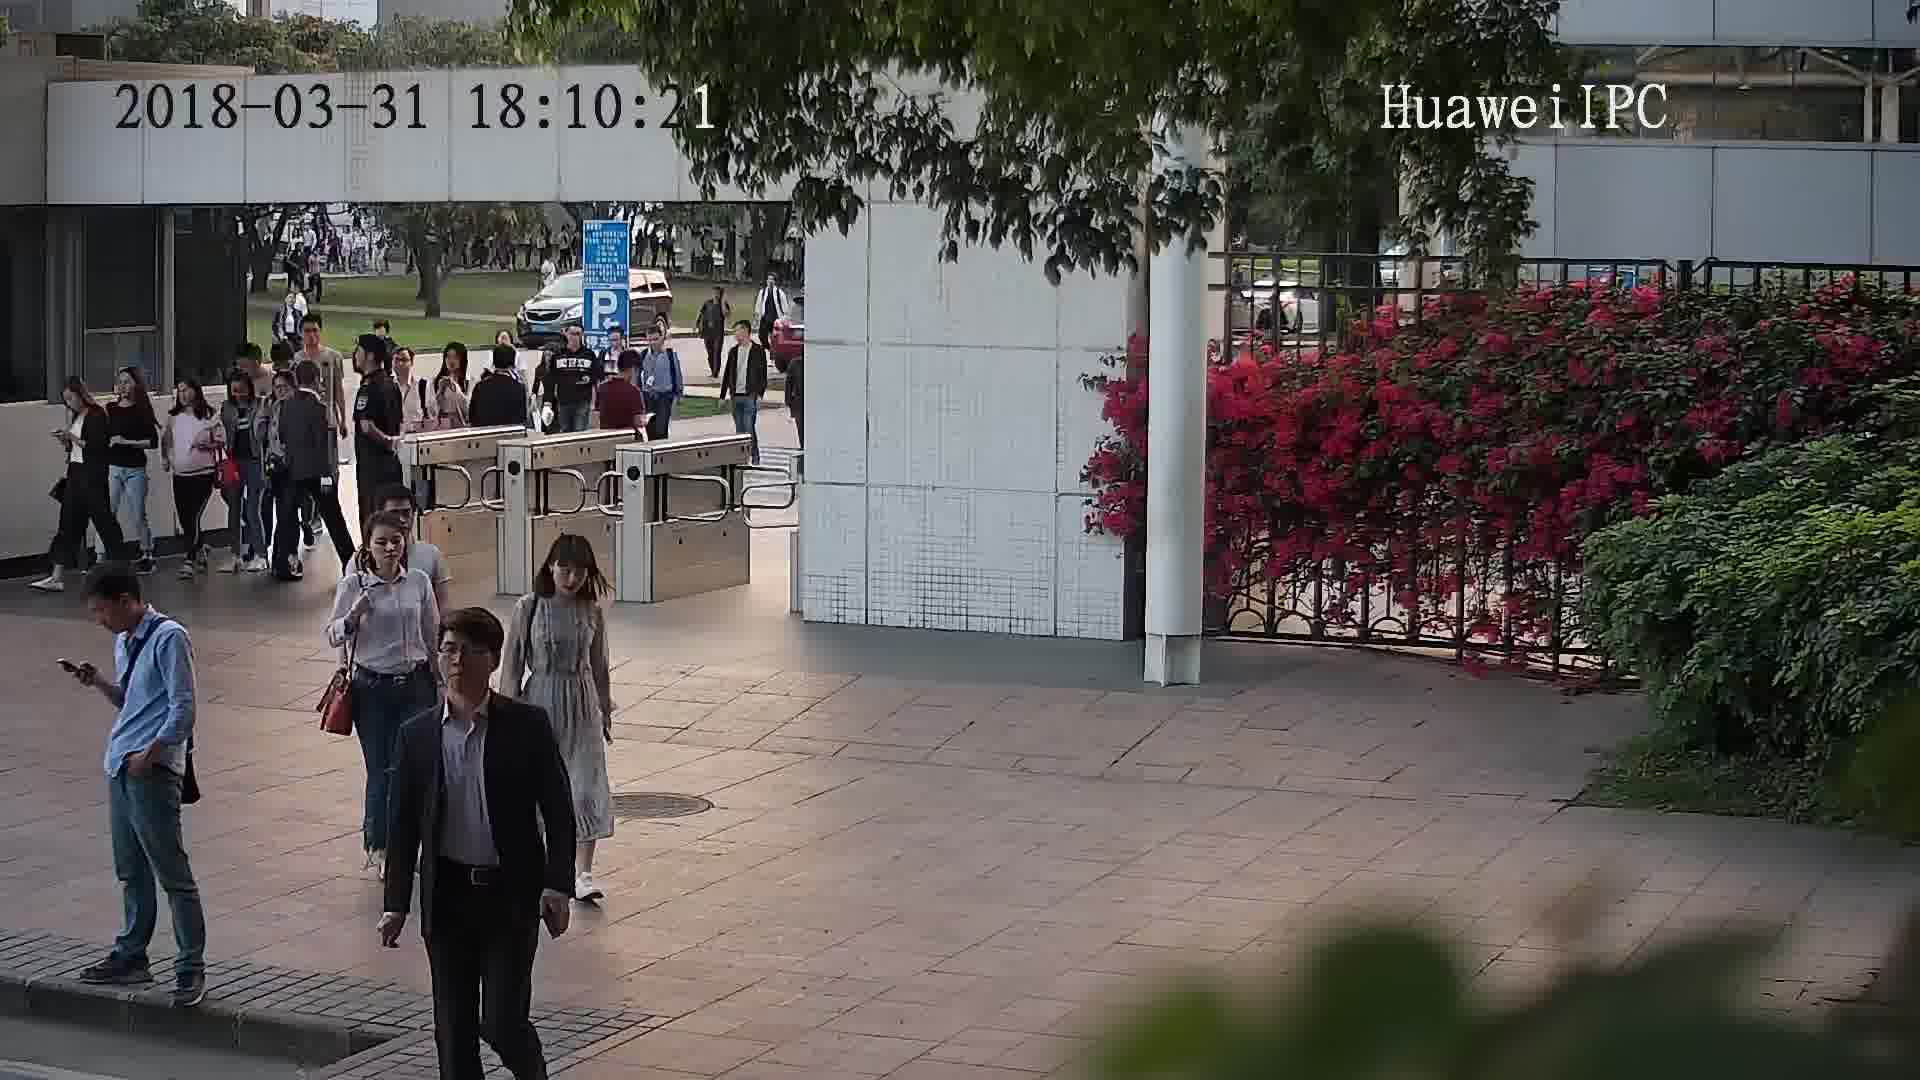face: (431, 630, 499, 697), (361, 519, 411, 569)
person: (401, 607, 548, 747), (87, 565, 190, 665), (343, 497, 433, 597), (511, 530, 608, 622), (102, 367, 156, 427), (62, 371, 109, 434), (294, 313, 346, 370), (350, 334, 395, 398), (170, 370, 220, 429), (280, 355, 326, 417), (473, 343, 527, 395), (222, 363, 269, 420), (227, 343, 275, 395), (599, 350, 646, 400), (551, 317, 598, 363), (431, 340, 473, 390), (388, 344, 427, 396), (722, 315, 767, 359), (280, 273, 310, 312), (645, 324, 676, 361), (601, 324, 631, 360), (702, 280, 730, 310), (757, 264, 782, 296)
